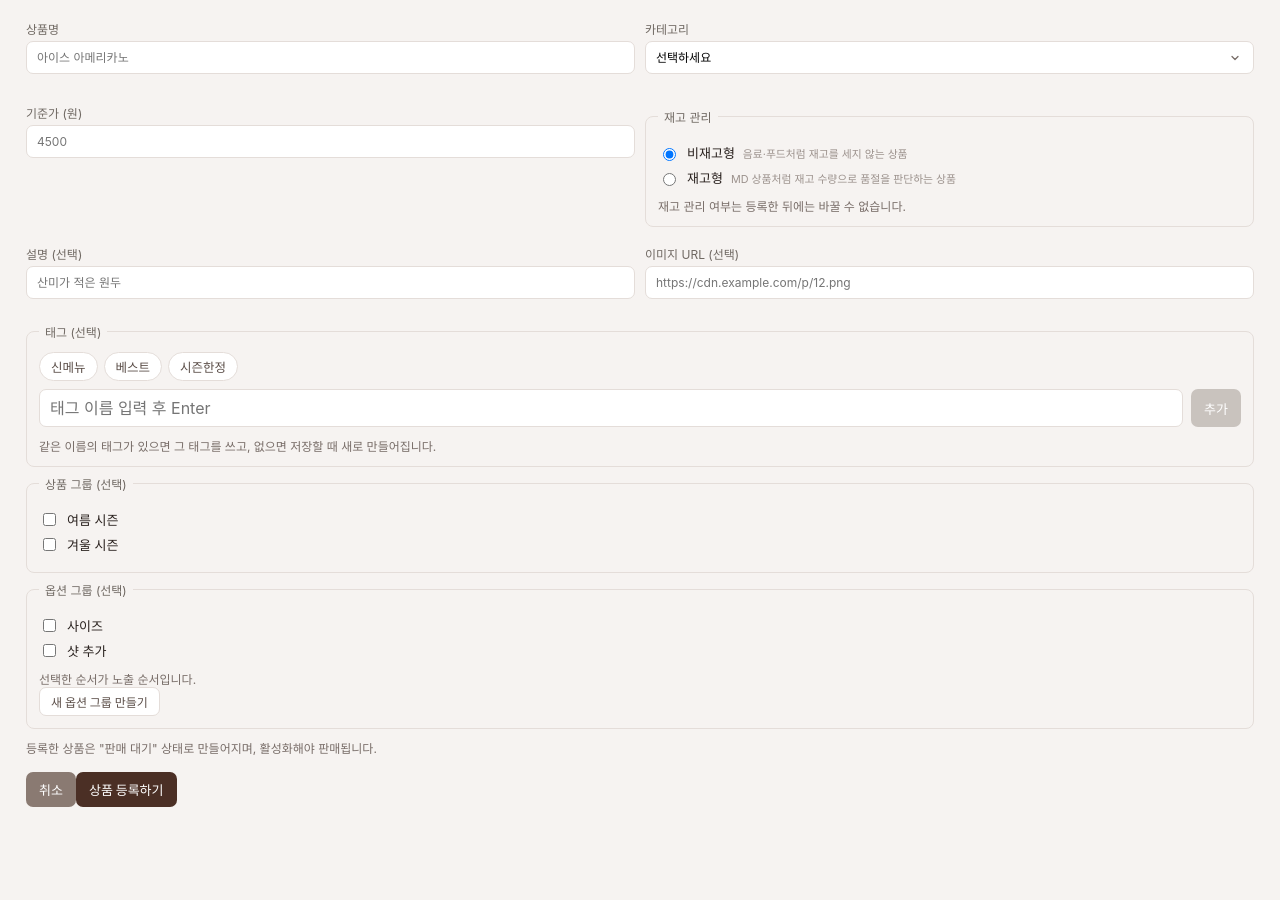
it: ProductForm 등록 › 입력 중에는 오류를 띄우지 않고 필드를 벗어나면 보여준다
The image size is (1280, 900).
In the field labelled "기준가 (원)": (330, 142) [26, 125, 635, 158], type "45a"
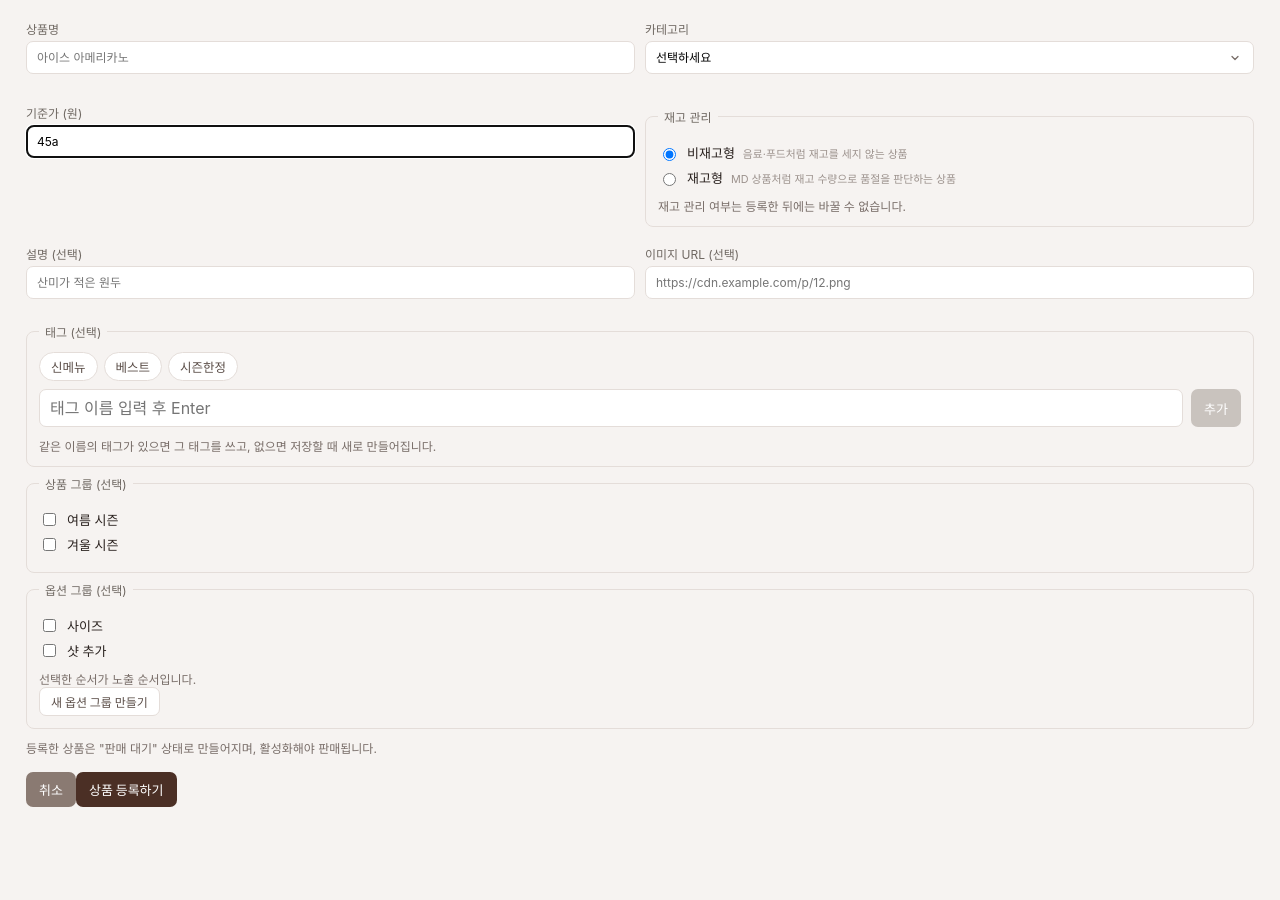
Expected: the text "0 이상의 정수" is not shown
Press Tab
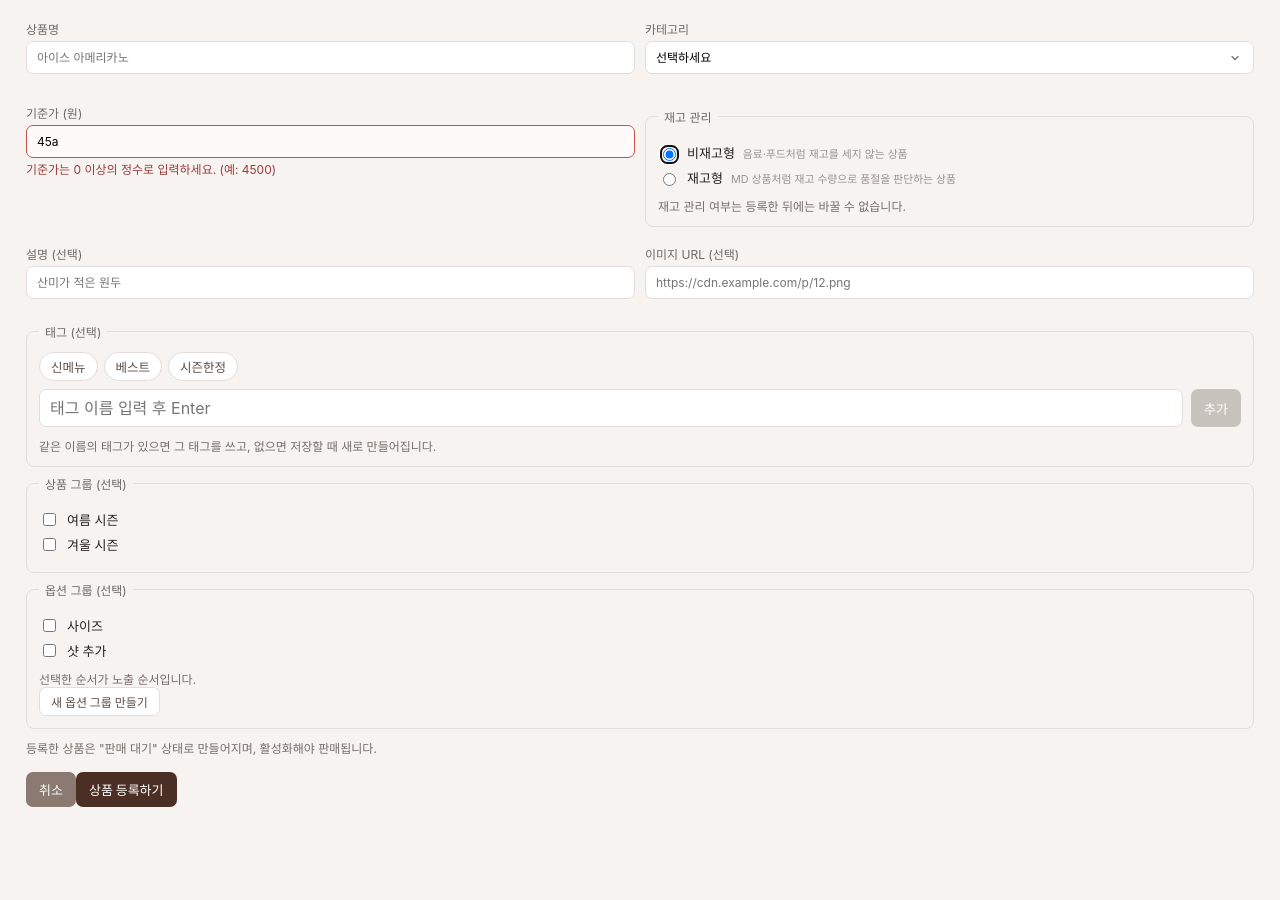
Now the text "기준가는 0 이상의 정수로 입력하세요. (예: 4500)" is shown, box [26, 162, 276, 177]
